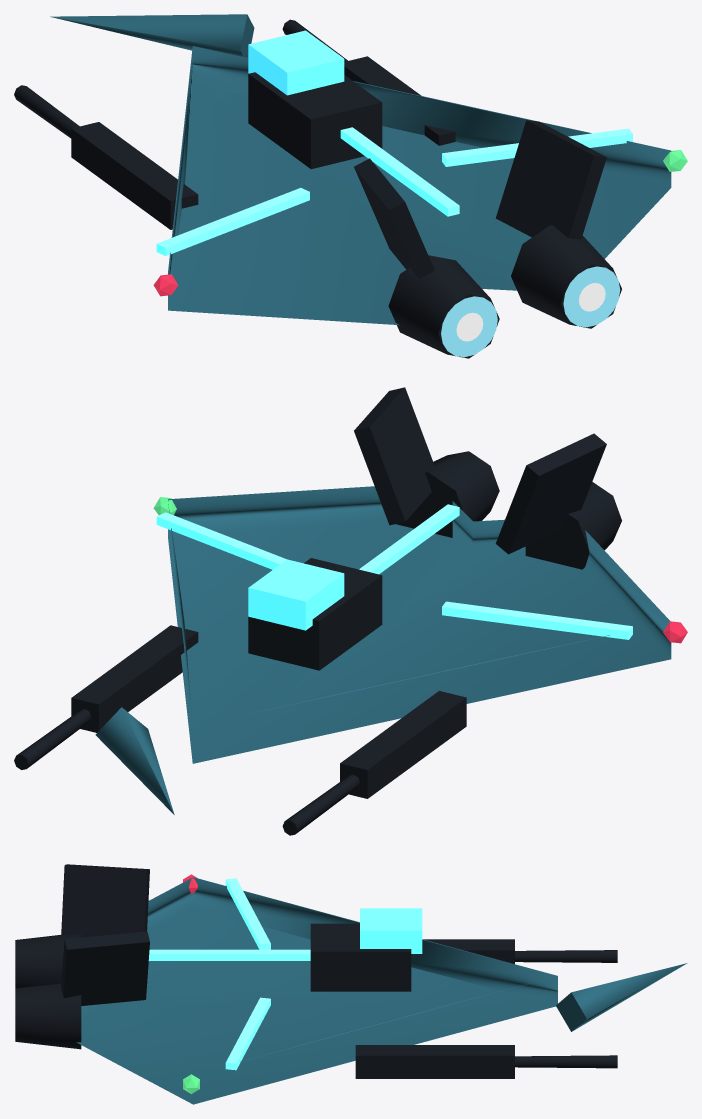
The model's file is fighter.glb.
The picture shows the model from 3 angles, top to bottom: view 1: azimuth 30°, elevation 25°; view 2: azimuth 150°, elevation 25°; view 3: azimuth 270°, elevation 25°; orthographic projection. The views are drawn at different scales.
Parts seen in each view (by area): view 1: wide_manta_assault_body, starboard_vertical_split_fin, raised_cockpit_pod, port_forward_cannon_pylon, starboard_fighter_engine_bell, port_fighter_engine_bell, central_lance_nose, large_cyan_bubble_canopy, port_vertical_split_fin, port_teal_wing_trace, thin_teal_dorsal_spine, starboard_fighter_engine_glow (+6 smaller); view 2: wide_manta_assault_body, raised_cockpit_pod, starboard_vertical_split_fin, port_vertical_split_fin, port_forward_cannon_pylon, starboard_forward_cannon_pylon, large_cyan_bubble_canopy, starboard_fighter_engine_bell, port_fighter_engine_bell, central_lance_nose, port_teal_wing_trace, starboard_teal_wing_trace (+3 smaller); view 3: wide_manta_assault_body, port_vertical_split_fin, starboard_vertical_split_fin, raised_cockpit_pod, starboard_forward_cannon_pylon, starboard_fighter_engine_bell, central_lance_nose, large_cyan_bubble_canopy, port_fighter_engine_bell, thin_teal_dorsal_spine, port_long_railgun, starboard_long_railgun (+3 smaller).
Part boxes in pixels (left/top/right/bottom): wide_manta_assault_body: left=168, top=46, right=671, bottom=325; starboard_vertical_split_fin: left=495, top=120, right=606, bottom=239; raised_cockpit_pod: left=248, top=72, right=382, bottom=169; port_forward_cannon_pylon: left=71, top=122, right=198, bottom=229; starboard_fighter_engine_bell: left=511, top=225, right=621, bottom=328; port_fighter_engine_bell: left=388, top=255, right=499, bottom=358; central_lance_nose: left=50, top=14, right=254, bottom=57; large_cyan_bubble_canopy: left=248, top=30, right=344, bottom=95; port_vertical_split_fin: left=354, top=158, right=434, bottom=278; port_teal_wing_trace: left=156, top=188, right=309, bottom=255; thin_teal_dorsal_spine: left=340, top=127, right=459, bottom=216; starboard_fighter_engine_glow: left=563, top=266, right=620, bottom=327; wide_manta_assault_body: left=168, top=486, right=671, bottom=763; raised_cockpit_pod: left=248, top=558, right=382, bottom=670; starboard_vertical_split_fin: left=354, top=387, right=434, bottom=525; port_vertical_split_fin: left=495, top=433, right=606, bottom=554; port_forward_cannon_pylon: left=340, top=691, right=466, bottom=798; starboard_forward_cannon_pylon: left=71, top=625, right=198, bottom=732; large_cyan_bubble_canopy: left=248, top=559, right=344, bottom=630; starboard_fighter_engine_bell: left=396, top=451, right=499, bottom=537; port_fighter_engine_bell: left=525, top=482, right=621, bottom=569; central_lance_nose: left=95, top=707, right=174, bottom=814; port_teal_wing_trace: left=442, top=601, right=632, bottom=639; starboard_teal_wing_trace: left=156, top=512, right=286, bottom=569; wide_manta_assault_body: left=76, top=877, right=557, bottom=1104; port_vertical_split_fin: left=61, top=864, right=149, bottom=937; starboard_vertical_split_fin: left=61, top=931, right=149, bottom=1005; raised_cockpit_pod: left=310, top=923, right=411, bottom=991; starboard_forward_cannon_pylon: left=355, top=1045, right=514, bottom=1078; starboard_fighter_engine_bell: left=15, top=982, right=81, bottom=1049; central_lance_nose: left=556, top=963, right=687, bottom=1031; large_cyan_bubble_canopy: left=360, top=908, right=422, bottom=953; port_fighter_engine_bell: left=15, top=933, right=81, bottom=987; thin_teal_dorsal_spine: left=148, top=949, right=310, bottom=960; port_long_railgun: left=515, top=950, right=617, bottom=962; starboard_long_railgun: left=515, top=1055, right=617, bottom=1068.
Size of the model in its own units: 5.35 by 1.49 by 7.35.
